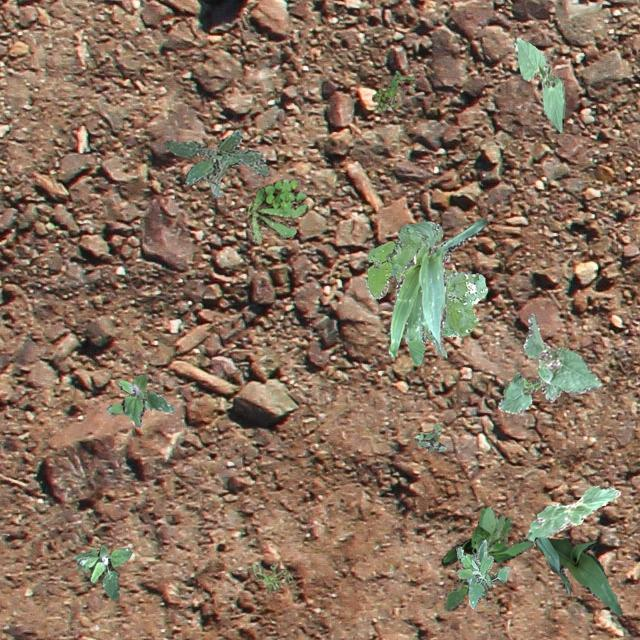crop: (386, 218, 486, 364), (534, 536, 622, 614), (522, 312, 600, 392), (524, 484, 620, 540), (514, 36, 564, 132), (497, 370, 562, 412)
weed: (366, 220, 486, 342), (440, 504, 532, 610), (163, 128, 269, 198), (246, 176, 308, 244), (454, 538, 508, 608), (106, 374, 174, 426), (73, 544, 131, 600), (371, 70, 414, 110), (250, 562, 292, 592), (412, 422, 444, 451)
